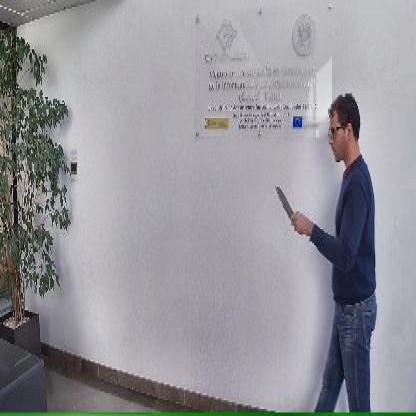knife: (273, 178, 299, 224)
